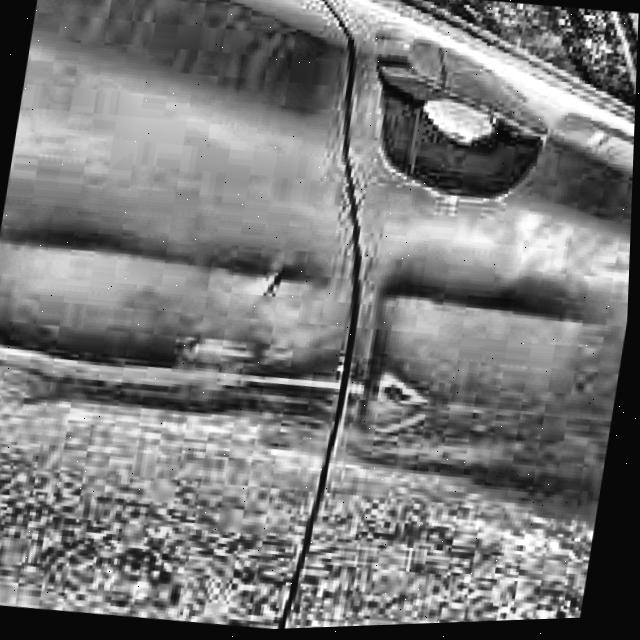door_dent: (0, 279, 441, 484)
